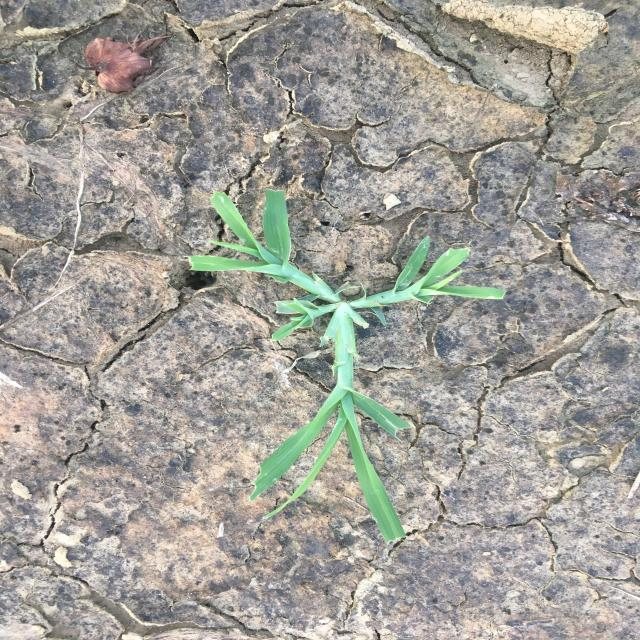Goosegrass: (185, 185, 510, 548)
